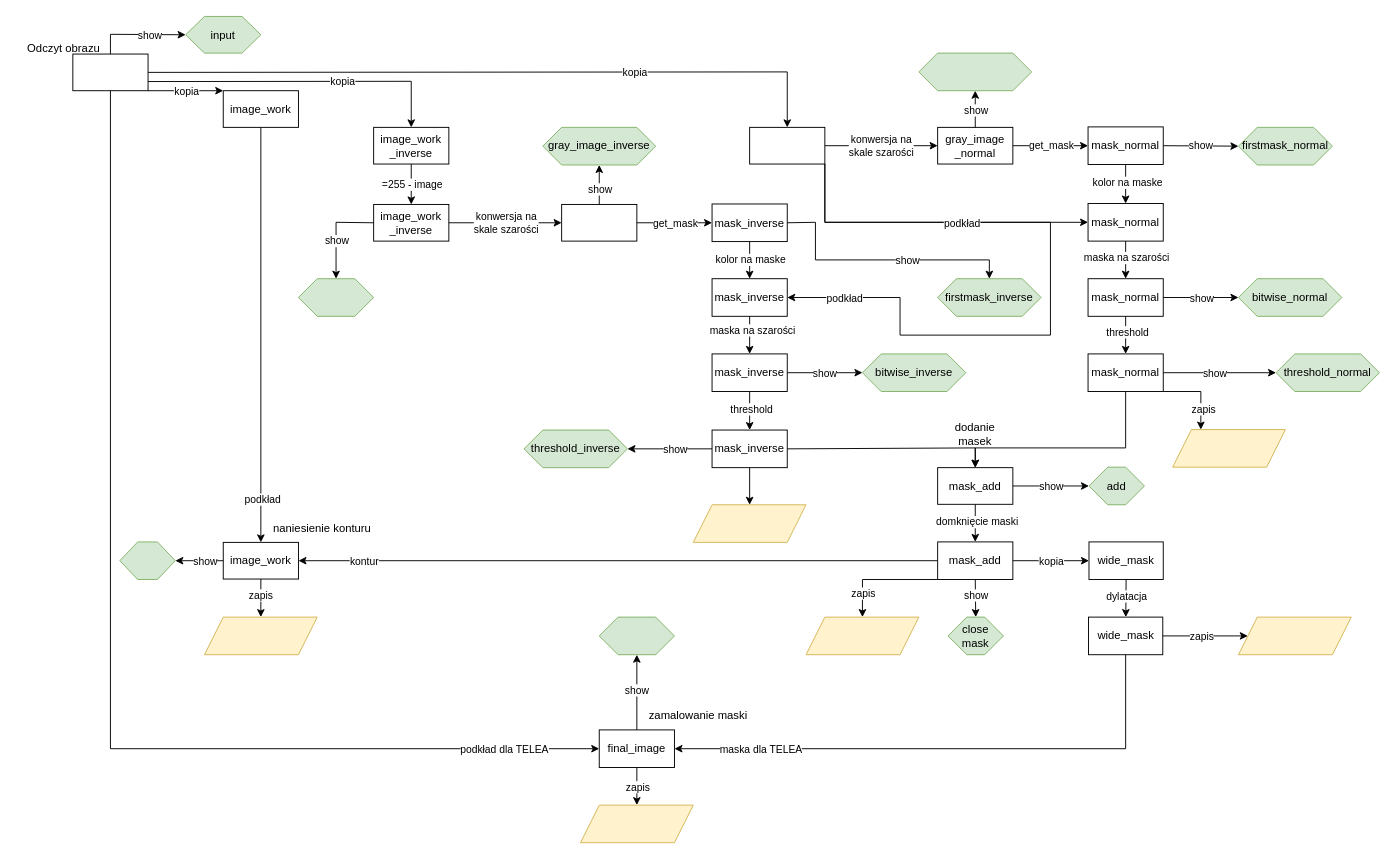
Some shapes in this 1396 by 859 pixel diagram are drawn without their labels. Each missing label, with the centre of its shape:
contour: the point at 147,560
contour.jpg: the point at 260,635
final_image.jpg: the point at 636,823
gray_image _inverse: the point at 599,222
gray_image_normal: the point at 975,71
image: the point at 110,72
image_work _normal: the point at 787,145
inverse: the point at 336,297
mask_add.jpg: the point at 862,635
mask_inverse.jpg: the point at 749,523
mask_normal.jpg: the point at 1228,448
output: the point at 636,635
wide_mask.jpg: the point at 1294,635
